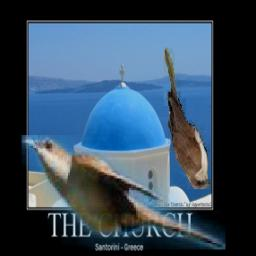Cuckoo: (21, 135, 226, 250), (164, 46, 210, 189)
